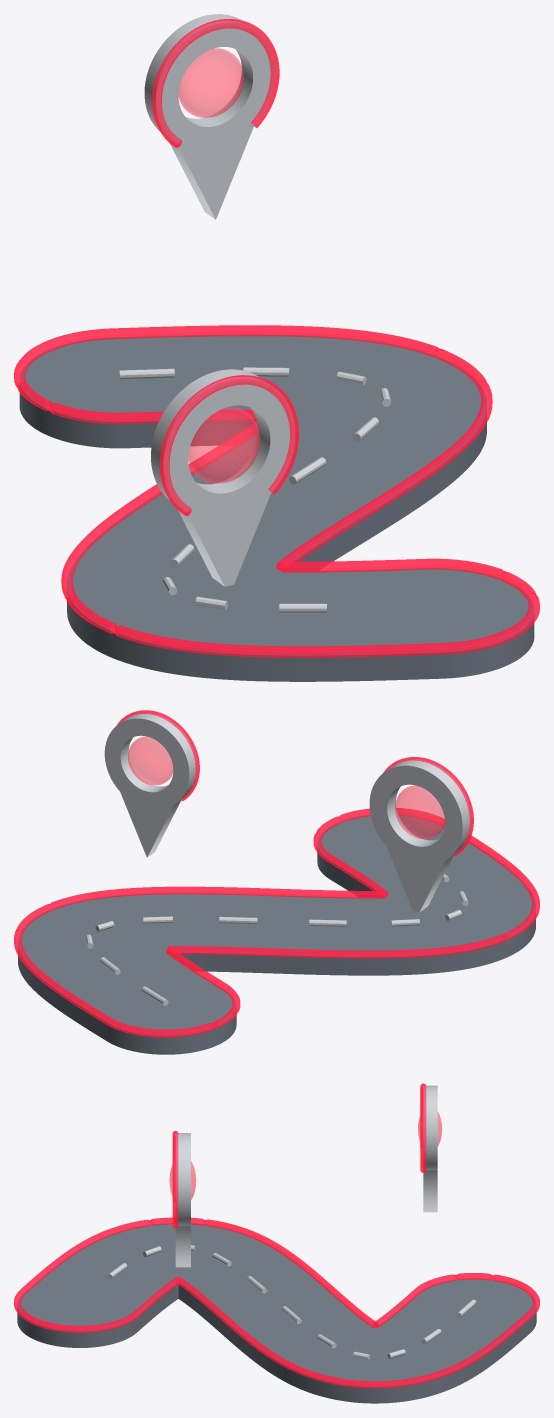
The model's file is 26-roadmap.glb.
3 views of the same model, one above another, from view 1: azimuth 30°, elevation 25°; view 2: azimuth 150°, elevation 25°; view 3: azimuth 270°, elevation 25° (orthographic). The views are drawn at different scales.
Parts seen in each view (by area): view 1: BC dark brushed metal, BC satin silver metal, BC neon red glass edge, BC ruby optical glass; view 2: BC dark brushed metal, BC satin silver metal, BC neon red glass edge, BC ruby optical glass; view 3: BC dark brushed metal, BC neon red glass edge, BC satin silver metal, BC ruby optical glass.
Boxes of the visible parts, left/top/right/bottom form: BC dark brushed metal: left=19, top=334, right=534, bottom=681; BC satin silver metal: left=119, top=14, right=390, bottom=612; BC neon red glass edge: left=14, top=19, right=539, bottom=657; BC ruby optical glass: left=178, top=48, right=260, bottom=483; BC dark brushed metal: left=18, top=815, right=535, bottom=1054; BC satin silver metal: left=85, top=713, right=470, bottom=1005; BC neon red glass edge: left=14, top=710, right=539, bottom=1037; BC ruby optical glass: left=128, top=736, right=444, bottom=839; BC dark brushed metal: left=17, top=1223, right=536, bottom=1403; BC neon red glass edge: left=14, top=1083, right=539, bottom=1388; BC satin silver metal: left=107, top=1085, right=476, bottom=1359; BC ruby optical glass: left=169, top=1112, right=442, bottom=1199.
Bounding box in the file's own units: 1.96 × 1.37 × 2.6.
